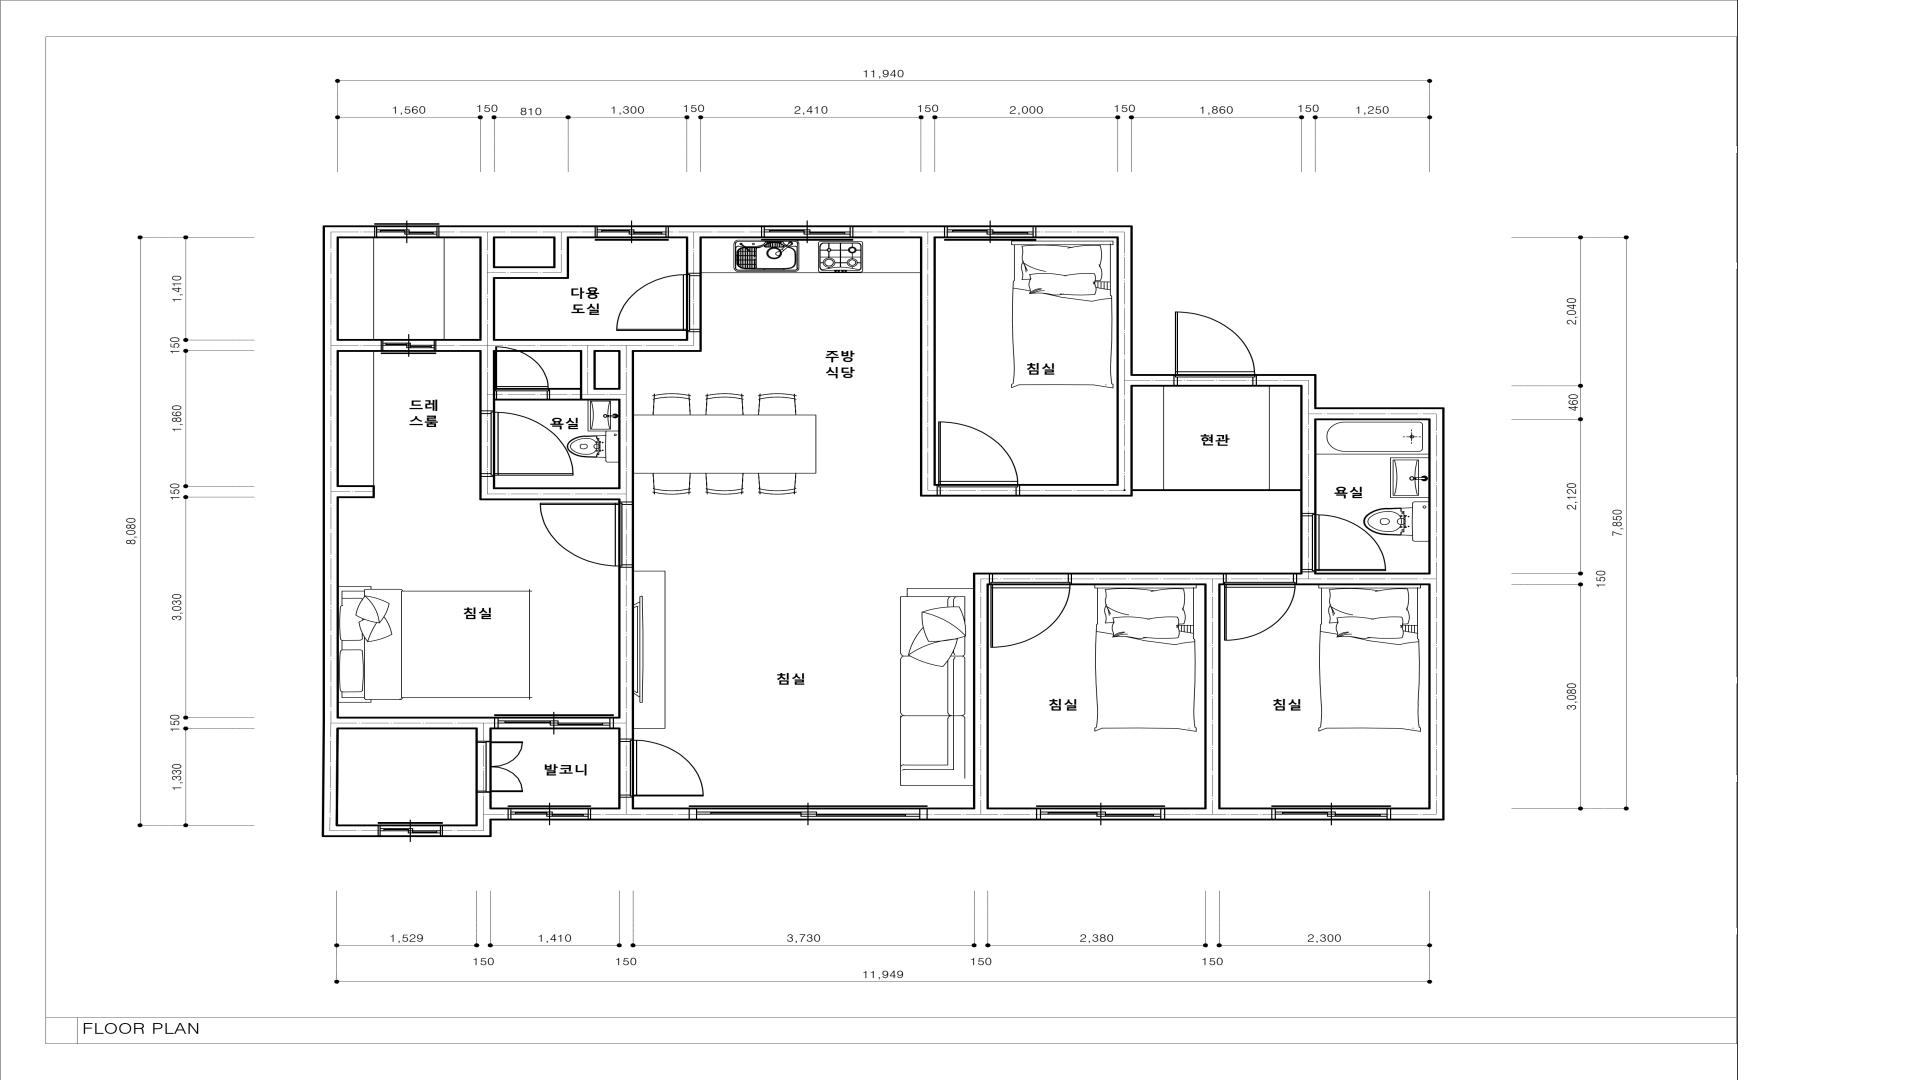door: (538, 502, 622, 567), (938, 421, 1019, 487), (990, 582, 1071, 647), (1175, 311, 1255, 377), (491, 413, 574, 476), (1224, 582, 1296, 641), (630, 740, 704, 796), (1312, 514, 1386, 571), (616, 274, 690, 331), (496, 352, 549, 392), (491, 741, 527, 791)
wall: (1255, 373, 1445, 820), (1019, 225, 1175, 496), (853, 225, 944, 496), (322, 239, 339, 824), (973, 572, 990, 807), (1204, 585, 1221, 807), (479, 239, 496, 411), (496, 339, 702, 352), (618, 567, 634, 716), (443, 791, 492, 837), (439, 225, 595, 239), (339, 716, 495, 729), (1071, 572, 1224, 585), (1296, 572, 1428, 585), (618, 401, 634, 502), (496, 488, 618, 500), (927, 807, 1036, 820), (1166, 807, 1271, 820), (591, 807, 688, 820), (669, 225, 761, 239), (496, 266, 570, 280), (322, 824, 378, 837), (580, 388, 634, 401), (323, 225, 375, 239), (579, 352, 596, 388), (618, 352, 634, 388), (686, 239, 702, 274), (436, 339, 479, 352), (339, 339, 381, 352), (553, 239, 570, 266), (339, 485, 375, 498), (550, 388, 580, 401), (480, 476, 496, 500), (615, 716, 634, 729), (492, 807, 508, 820), (475, 729, 492, 741), (617, 729, 634, 740), (618, 796, 634, 807), (686, 331, 702, 339)
window: (688, 804, 927, 820), (493, 713, 615, 729), (1036, 806, 1166, 820), (1271, 806, 1391, 820), (944, 225, 1036, 241), (761, 225, 853, 241), (508, 806, 591, 820), (595, 225, 669, 241), (377, 822, 443, 837), (375, 223, 439, 239), (380, 339, 436, 355)
